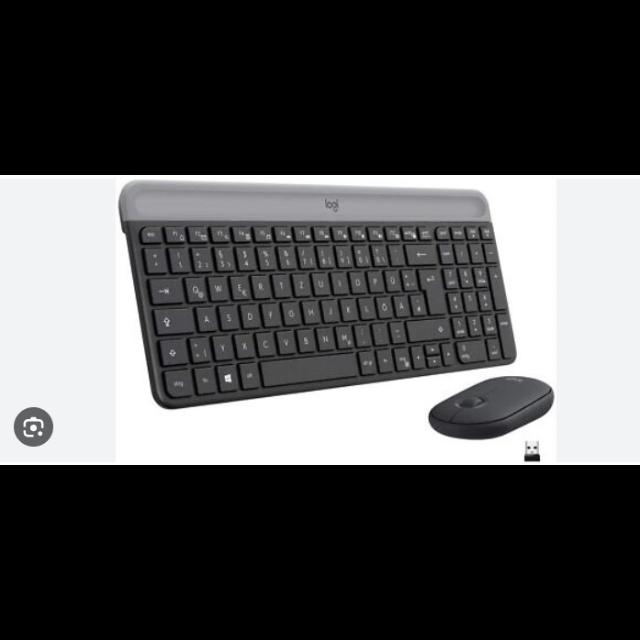Computer-Keyboard: (118, 180, 519, 409)
